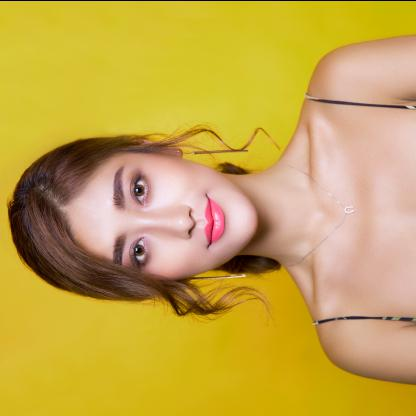Eye: (124, 233, 153, 269), (127, 169, 150, 206)
Mouth: (202, 192, 228, 249)
Nose: (140, 206, 197, 238)
